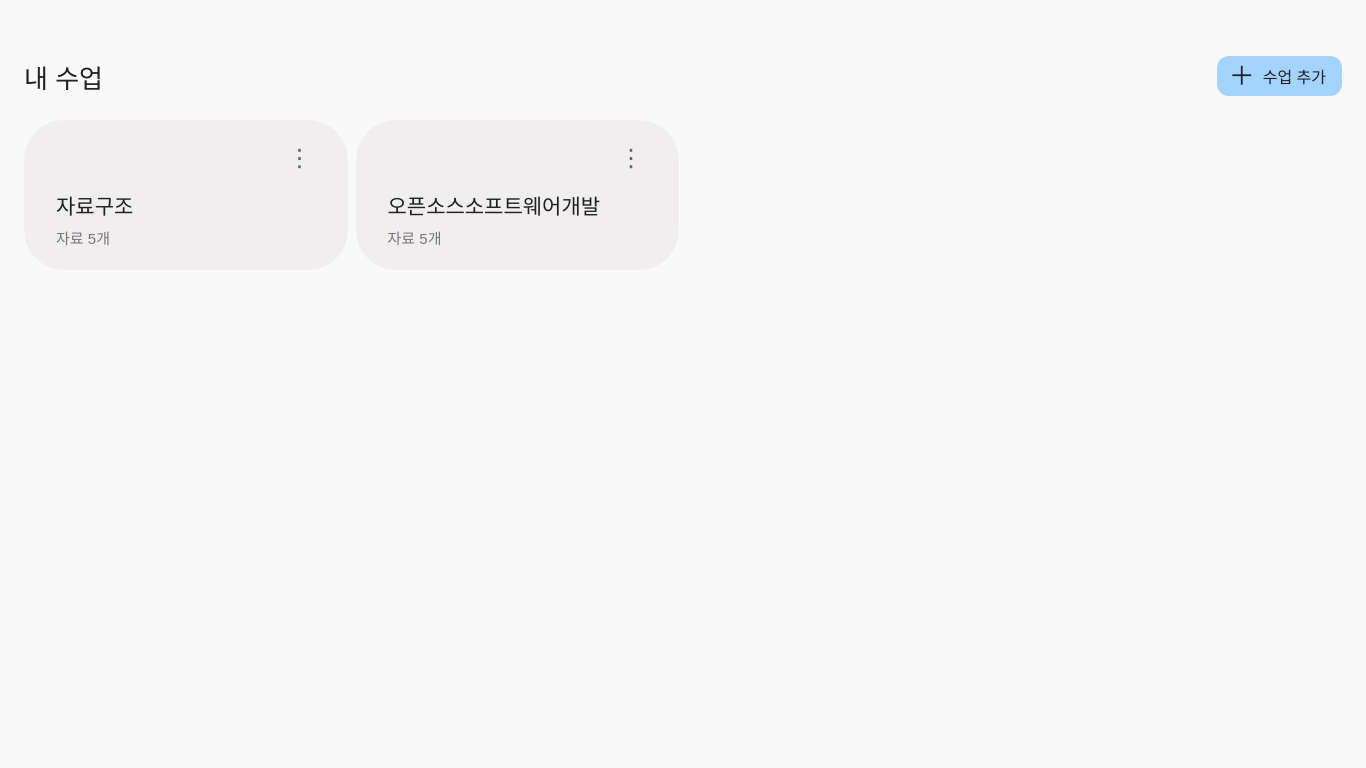
confirms before deleting the selected subject
Click the button named "자료구조 메뉴" at (300, 158), box 284,140 -> 316,176
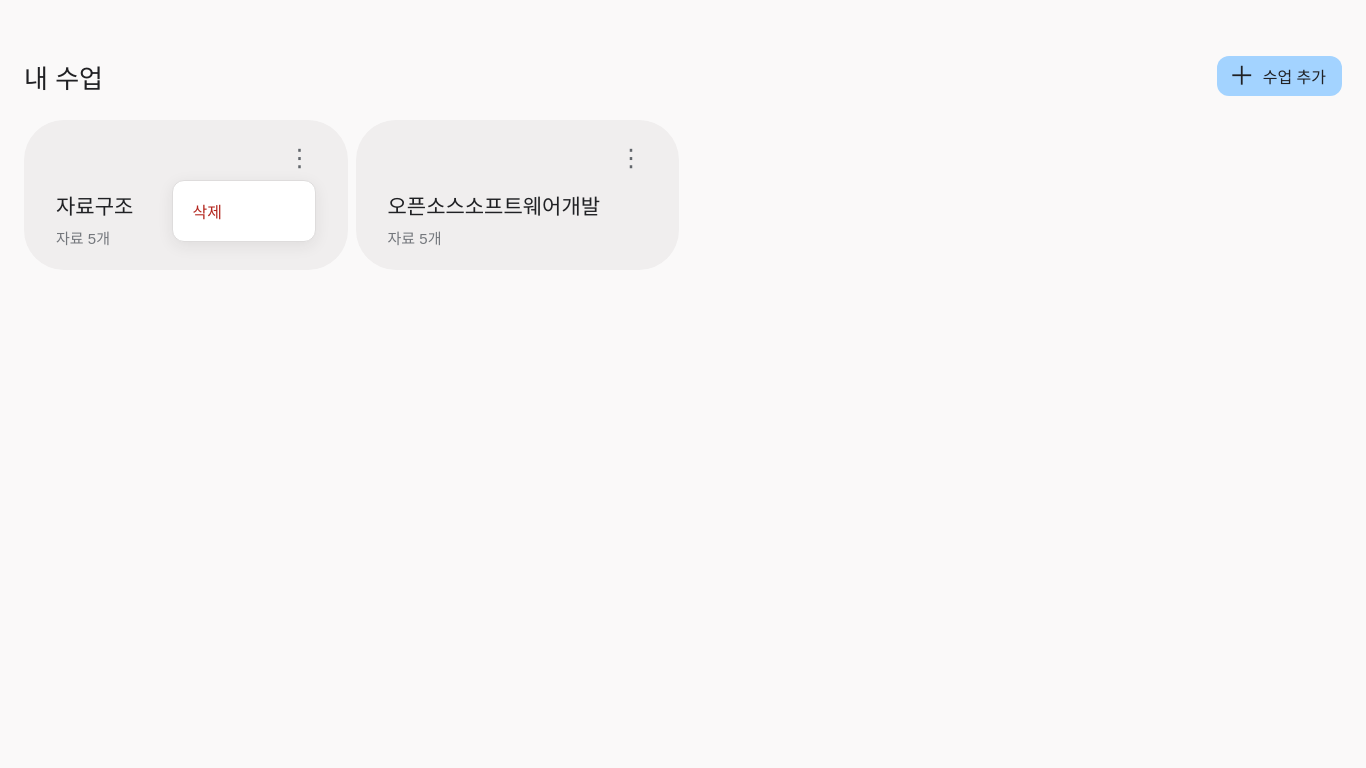
Click the button "삭제" at (244, 211), box 180,189 -> 306,233
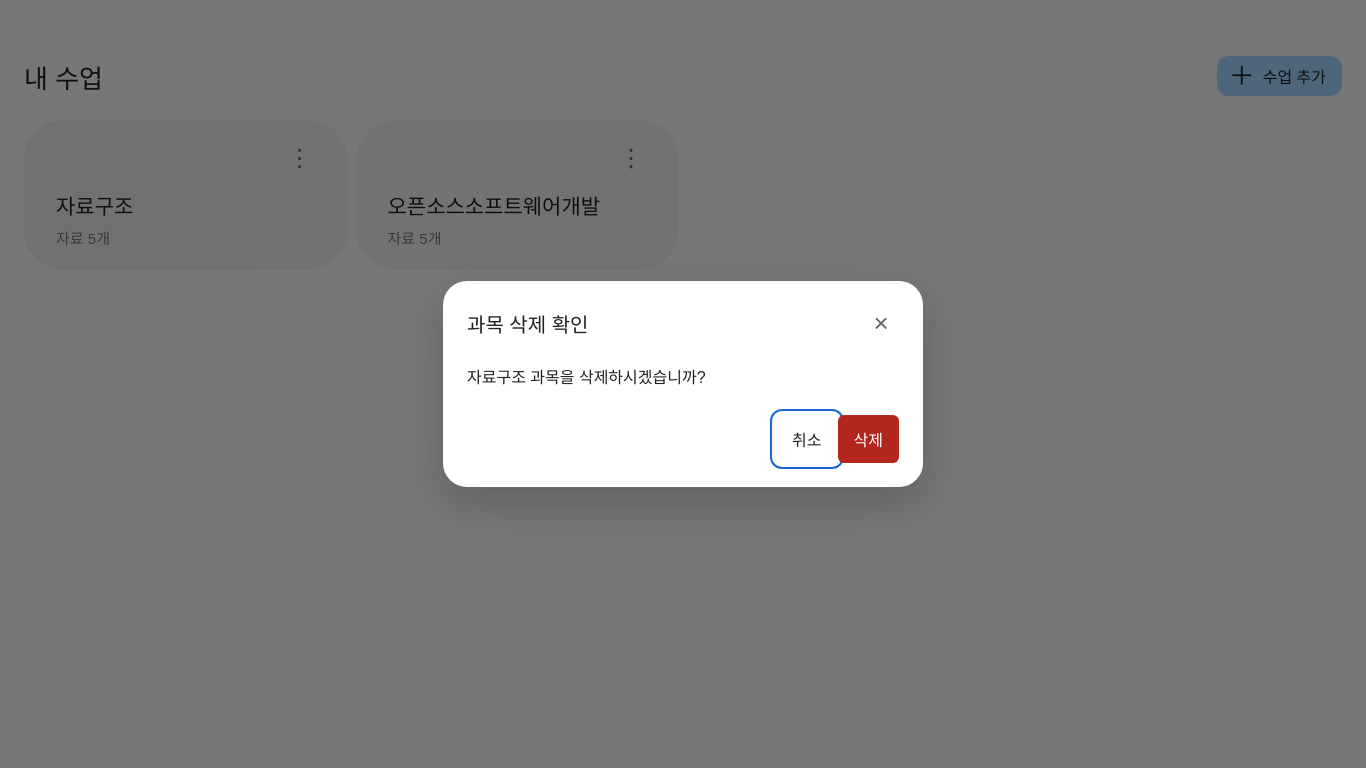
Expected: the number of list items is 2, 24,120 -> 348,270; 356,120 -> 679,270
Now the text "자료구조 과목을 삭제하시겠습니까?" is shown, box 467,369 -> 706,386
Click the button "취소" at (807, 439), box 776,415 -> 838,463
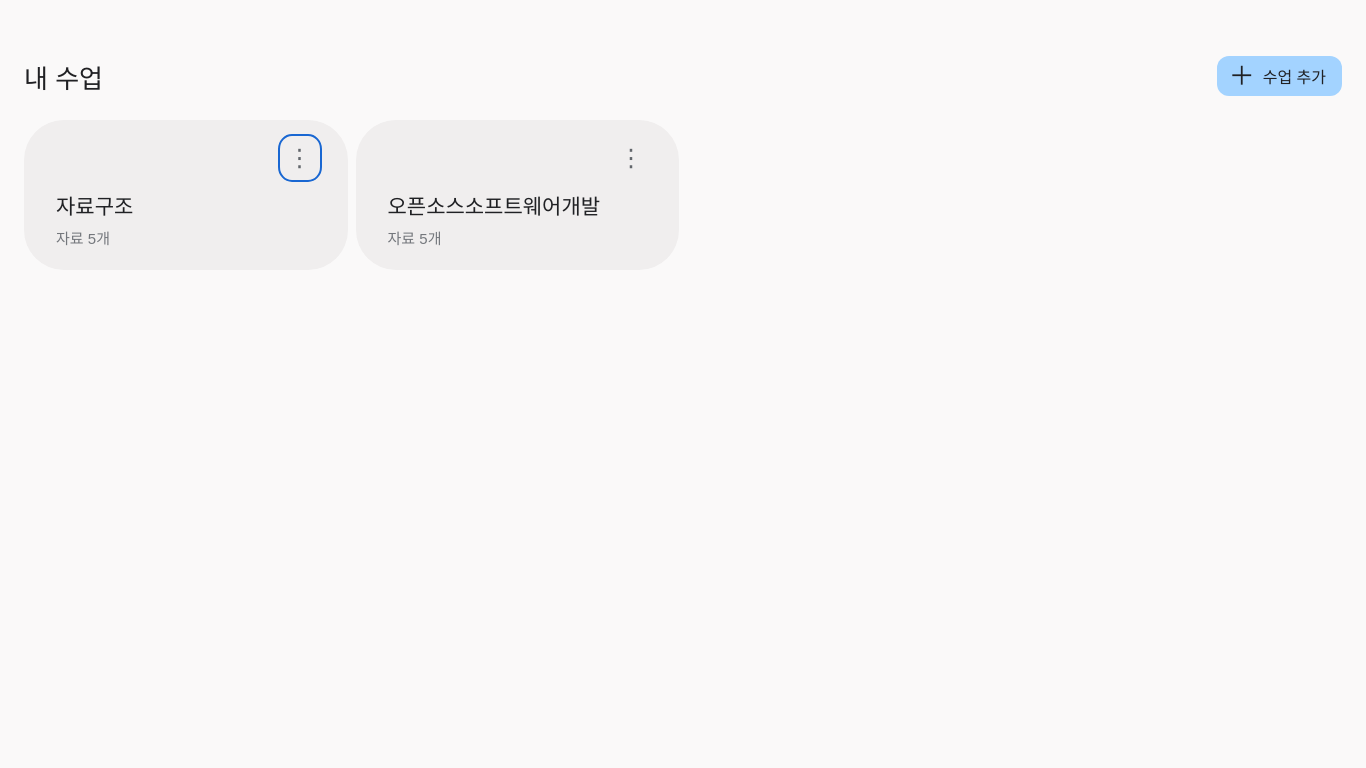
Expected: the number of list items is 2, 24,120 -> 348,270; 356,120 -> 679,270
Now the heading "과목 삭제 확인" is gone
Click the button named "자료구조 메뉴" at (300, 158), box 284,140 -> 316,176
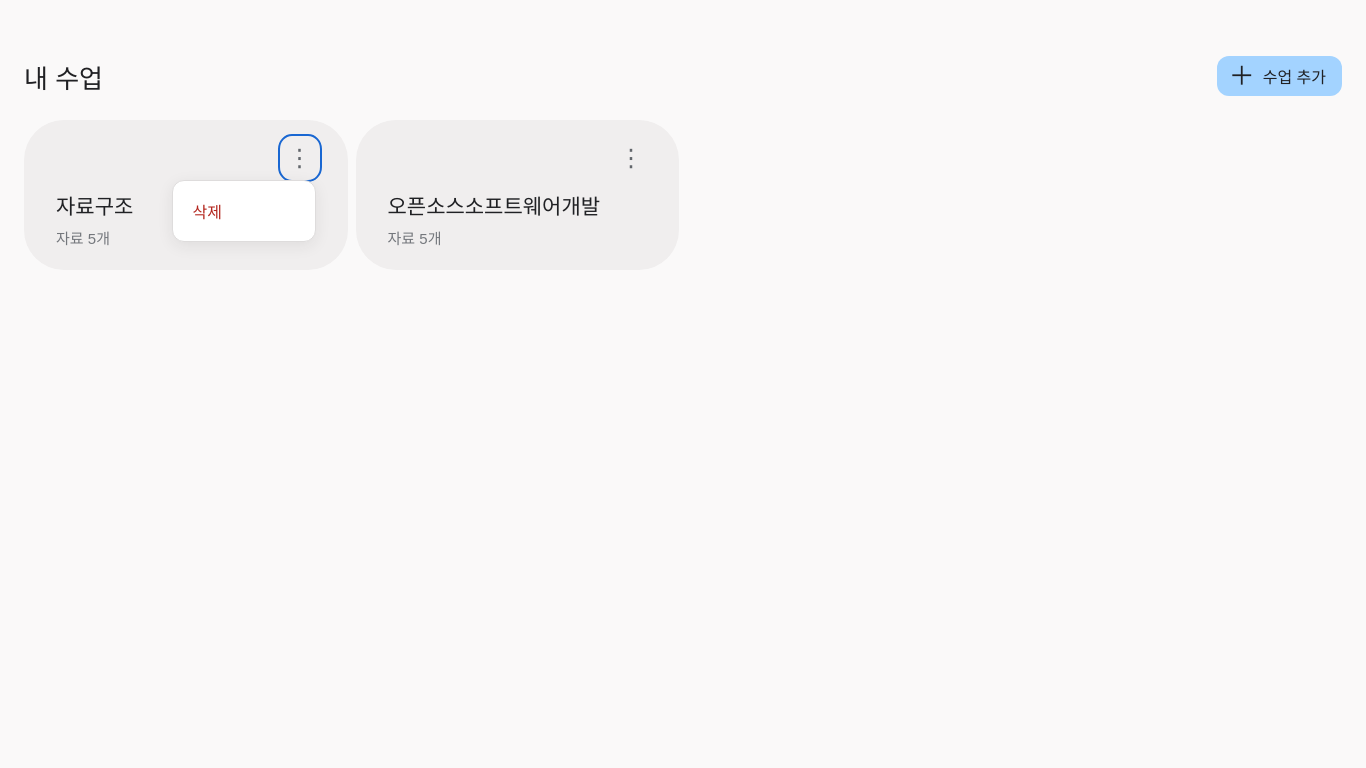
Click the button "삭제" at (244, 211), box 180,189 -> 306,233
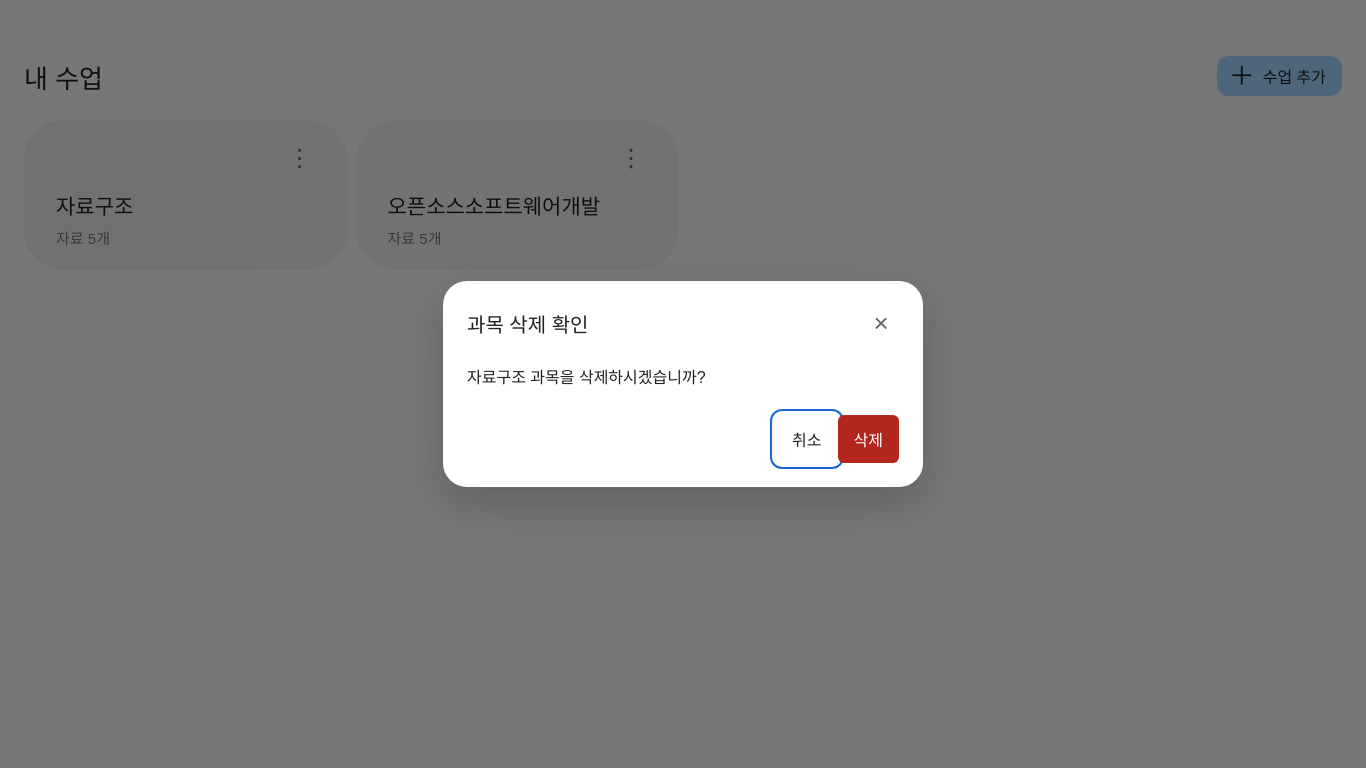
Click the button "삭제" at (868, 439), box 838,415 -> 899,463
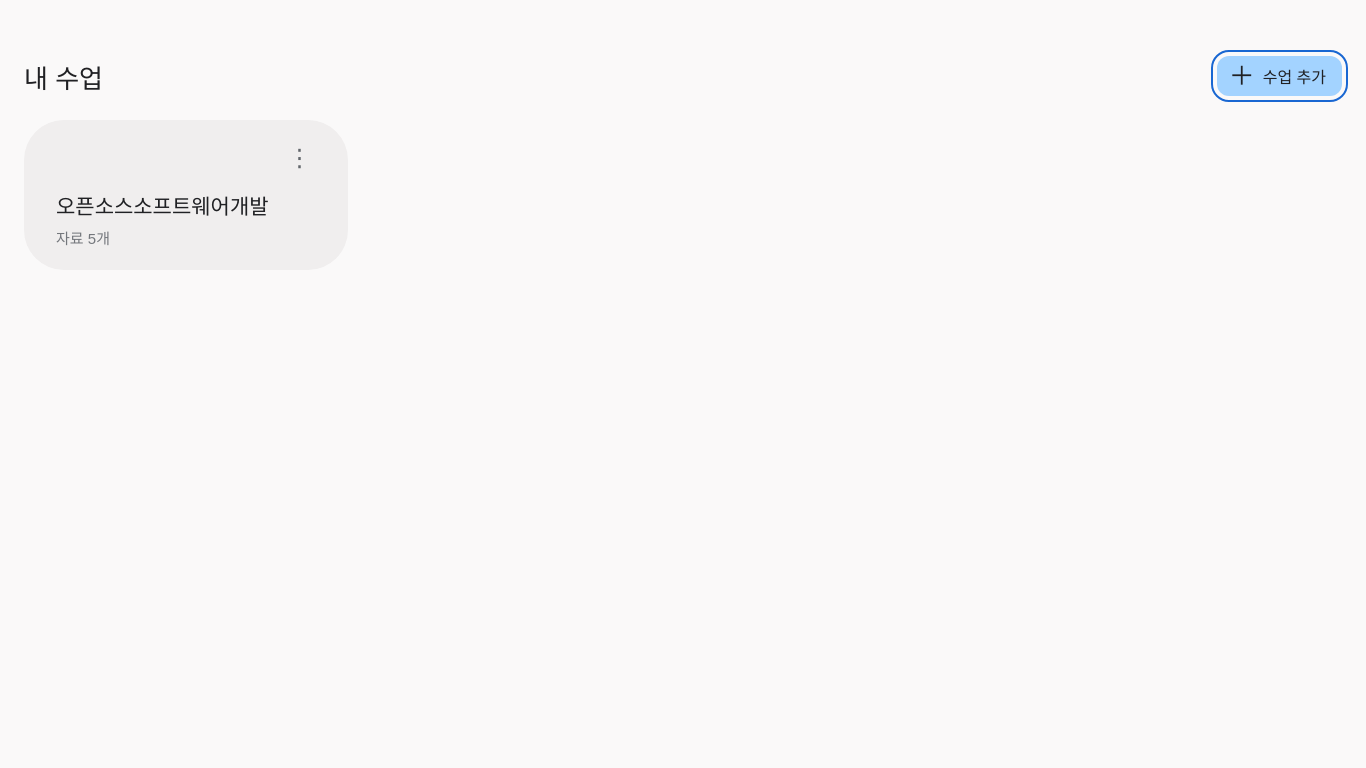
Expected: the heading "오픈소스소프트웨어개발" is shown, 56,195 -> 268,218
Now the number of list items is 1, box 24,120 -> 348,270
Now the heading "과목 삭제 확인" is gone
